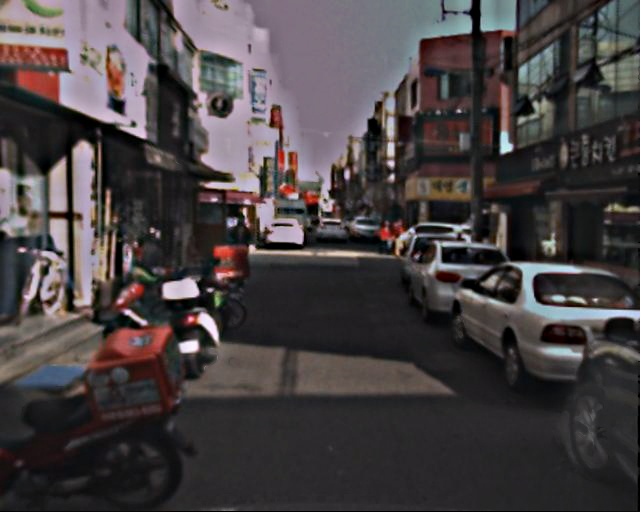person: (226, 212, 258, 291), (392, 216, 409, 257), (379, 219, 395, 257)
